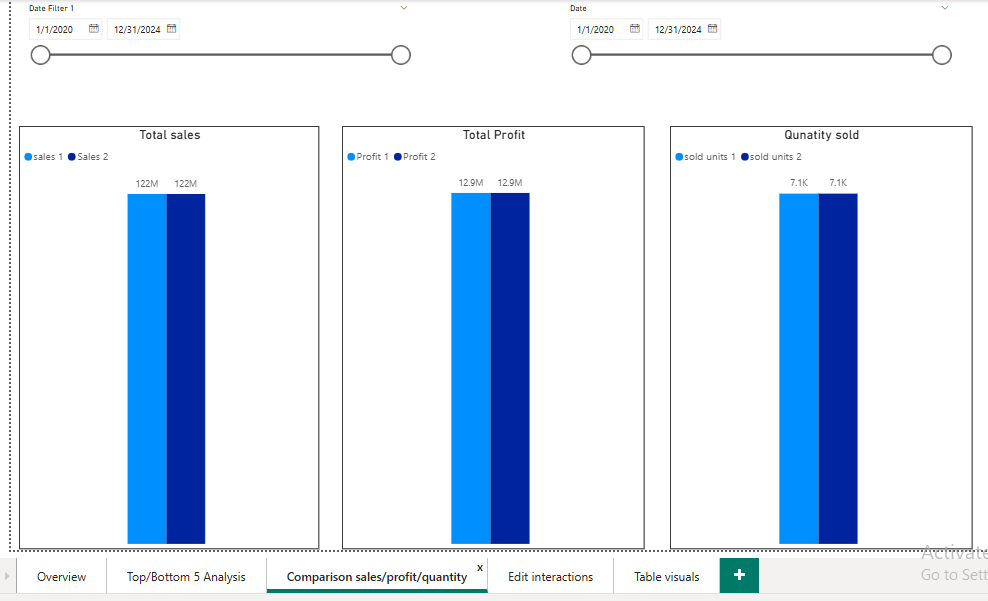

The page's visual inventory and layout, read from the dashboard file:
{"tool":"powerbi","page":{"name":"Comparison sales/profit/quantity","canvas":[1280,720],"ordinal":2},"visuals":[{"type":"slicer","fields":{"Values":["Date table 1.Date"]},"box":[10.1,0,521.3,145.4],"z":0},{"type":"slicer","fields":{"Values":["Date table 2.Date"]},"box":[718.6,0,521.3,145.4],"z":1},{"type":"clusteredColumnChart","title":"Total sales","fields":{"Y":["Sum(Fact Table.Net Sales)","Date table 1.Sum of net sales"]},"box":[10.1,165.6,393.1,554.4],"z":2},{"type":"clusteredColumnChart","title":"Total Profit","fields":{"Y":["Sum(Fact Table.Profit)","Measures table.Total Profit"]},"box":[433.4,165.6,396,554.4],"z":3},{"type":"clusteredColumnChart","title":"Qunatity sold","fields":{"Y":["Sum(Fact Table.Units Sold)","Measures table.Quantity Sold"]},"box":[862.6,165.6,396,554.4],"z":4}]}

Visuals, with their boxes on the page's 1280x720 design canvas (x1, y1, x2, y2). These are canvas units, not pixel positions in the 988x601 screenshot, which may show the page scaled, cropped or inside an application window:
slicer - Date table 1.Date: box=[10, 0, 531, 145]
slicer - Date table 2.Date: box=[719, 0, 1240, 145]
"Total sales" clusteredColumnChart: box=[10, 166, 403, 720]
"Total Profit" clusteredColumnChart: box=[433, 166, 829, 720]
"Qunatity sold" clusteredColumnChart: box=[863, 166, 1259, 720]
